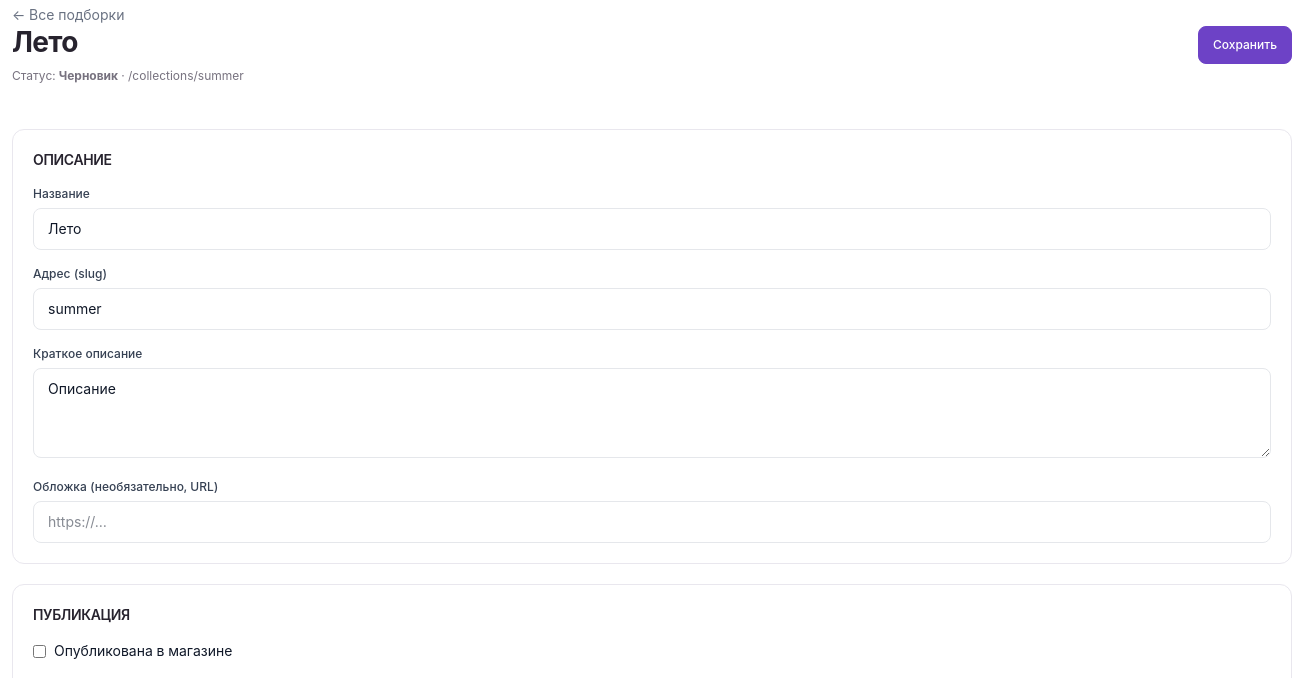
AdminCollectionDetail › shows duplicate slug errors from the API and keeps the edits
Replace the text in the field labelled "Название" with "Новое имя". click: (652, 229)
box: x1=33 y1=208 x2=1271 y2=250
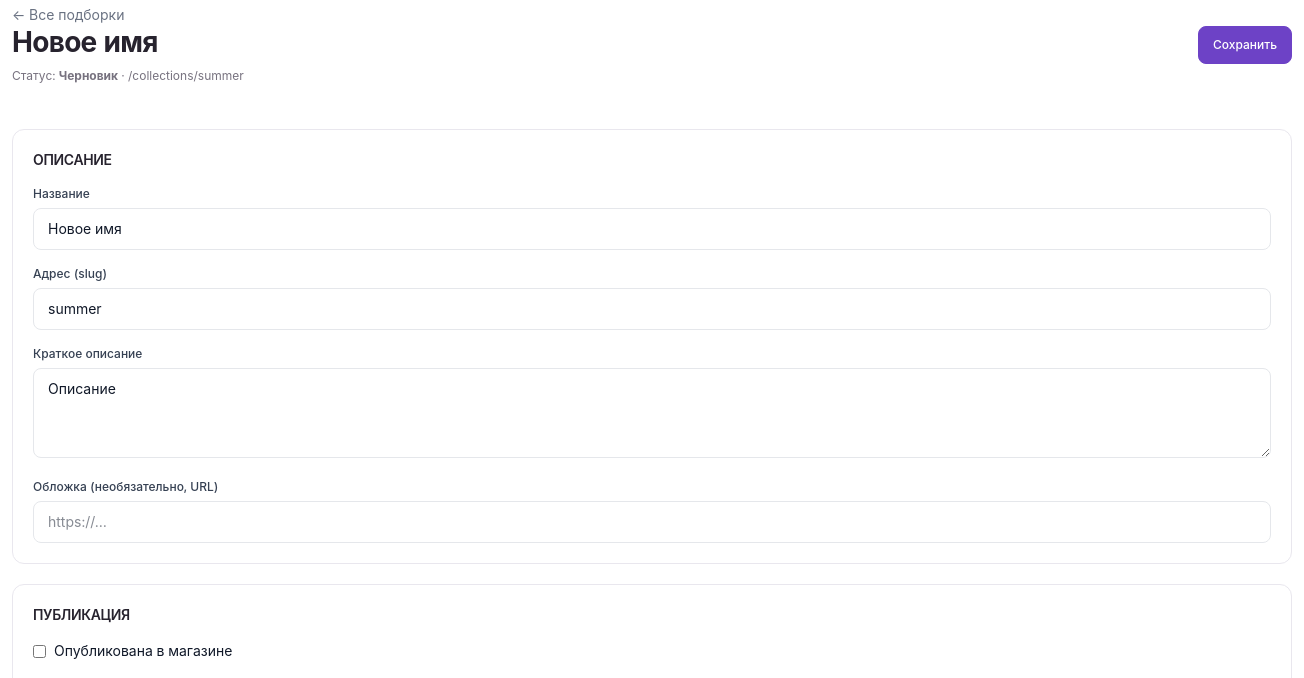
Click the button with test id "collection-save". click: (1245, 45)
box: x1=1198 y1=26 x2=1292 y2=64
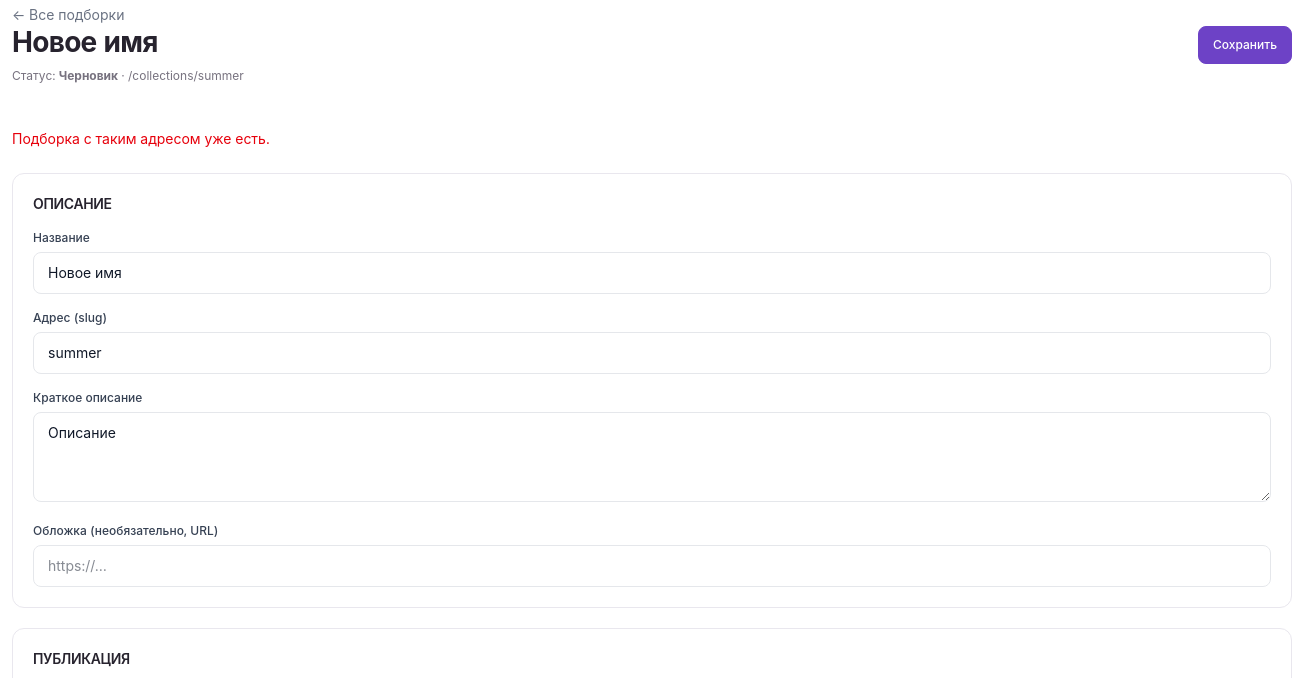
Now the message shows "уже есть", box x1=12 y1=130 x2=270 y2=147
